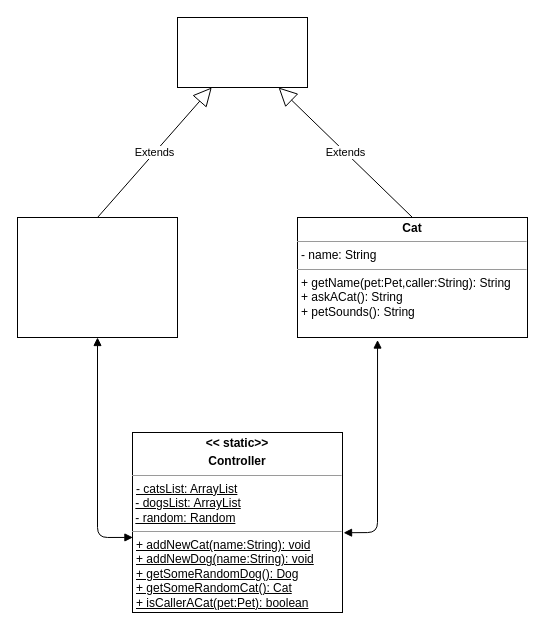
Image size: 545x630. Some labels were removed from this diagram. The centre of each missing label's shape, as x and y in pixels:
<< abstract >> Pet + petSounds(): String: [242,52]
Dog - name: String + askACat(): String + petSounds(): String: [97,277]
